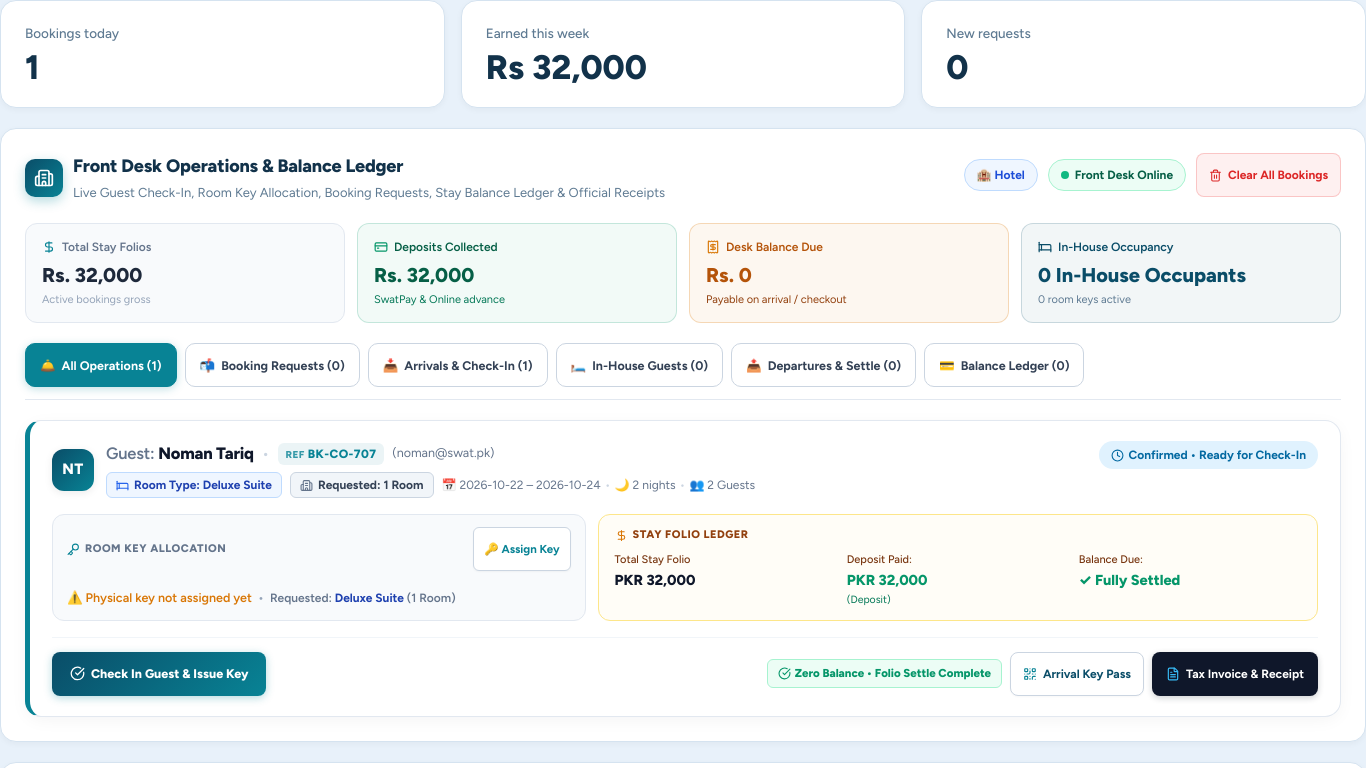
Test: SwatPay Checkout Modal & Hotel Stay Operations › disables the Assign Key / Change Key button when tourist checkout is completed and settled
The image size is (1366, 768).
Check: the button with test id "btn-assign-key-BK-CO-707" is enabled, box [473, 527, 571, 571]
# Front desk check-in
Click the button with test id "btn-fd-checkin-BK-CO-707". click: (159, 674)
box: [52, 652, 266, 696]
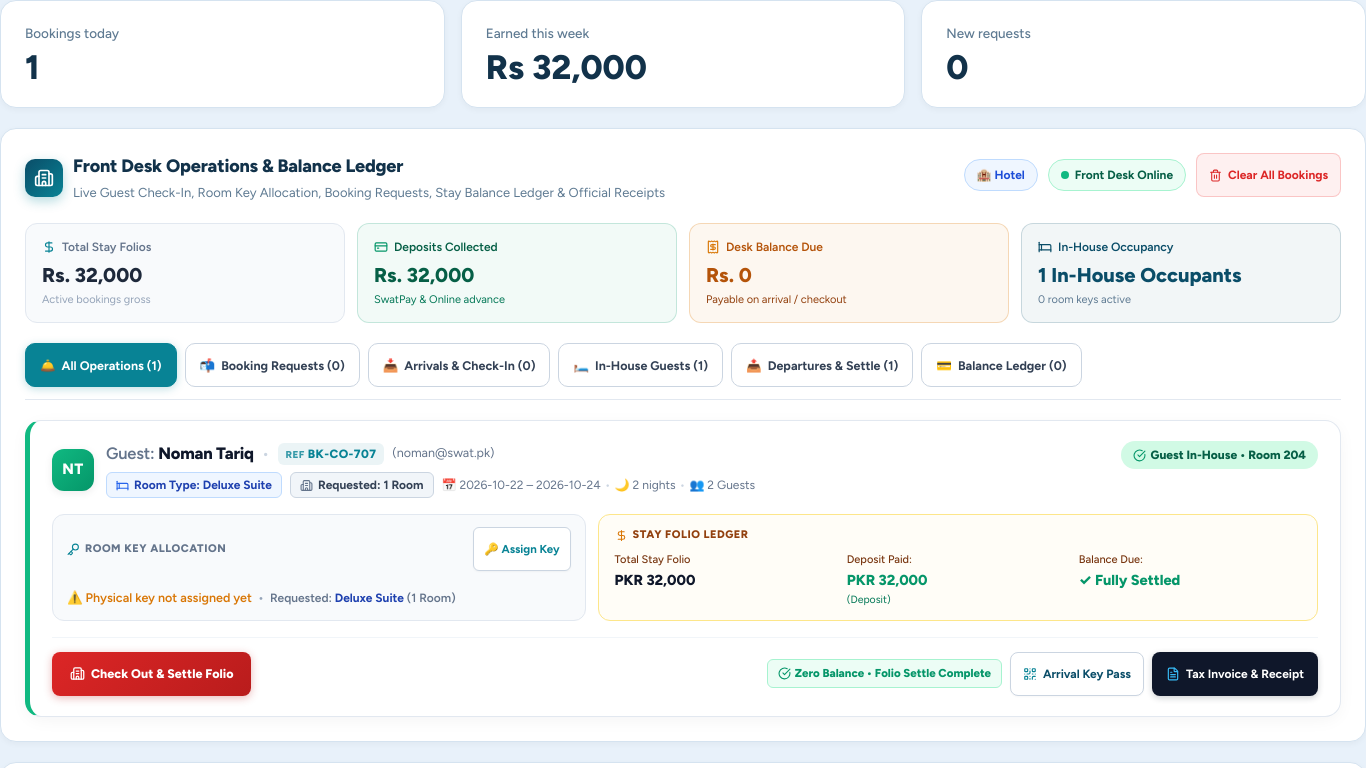
Check: the button with test id "btn-fd-checkout-BK-CO-707" is shown
Click the button with test id "btn-fd-checkout-BK-CO-707". click: (152, 674)
box: [52, 652, 251, 696]
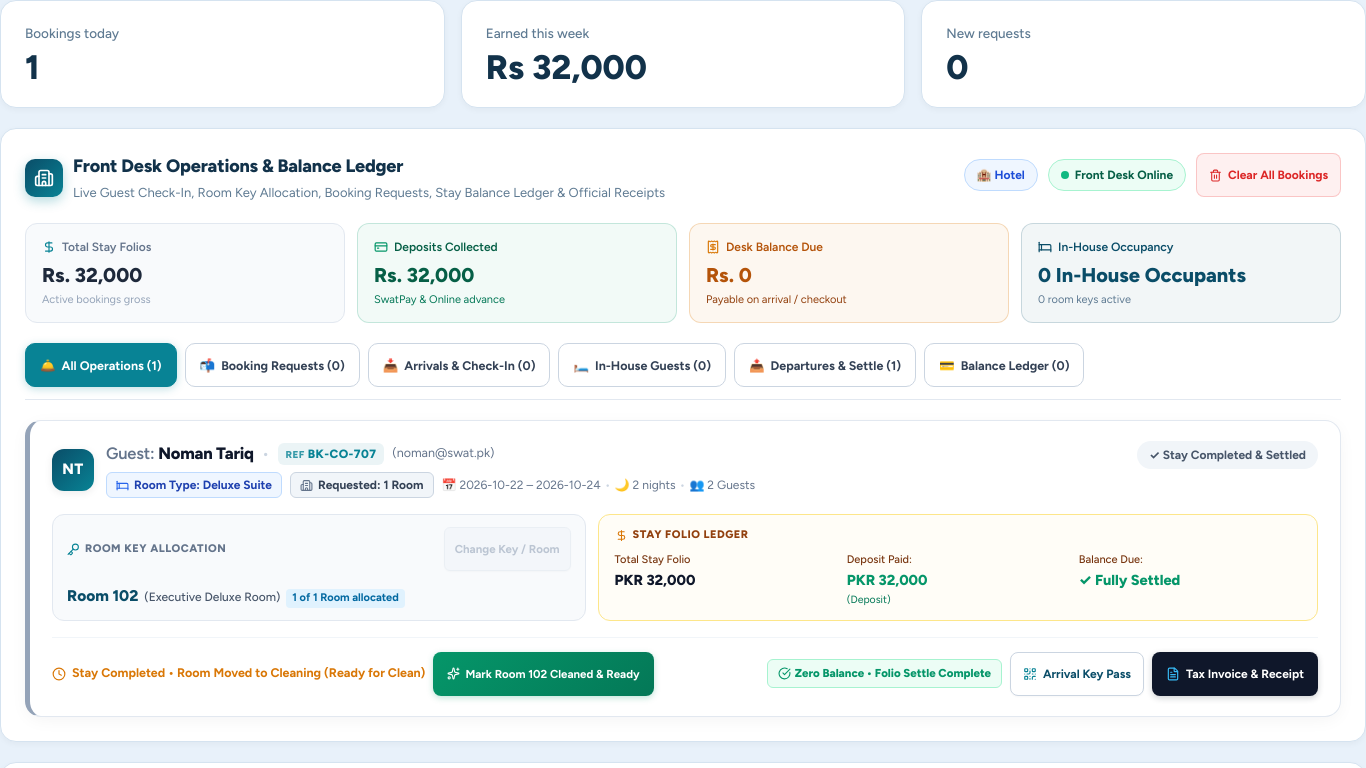
Check: the text "✓ Stay Completed & Settled" is shown, box [1149, 446, 1306, 464]
Check: the button with test id "btn-assign-key-BK-CO-707" is disabled, box [444, 527, 571, 571]
